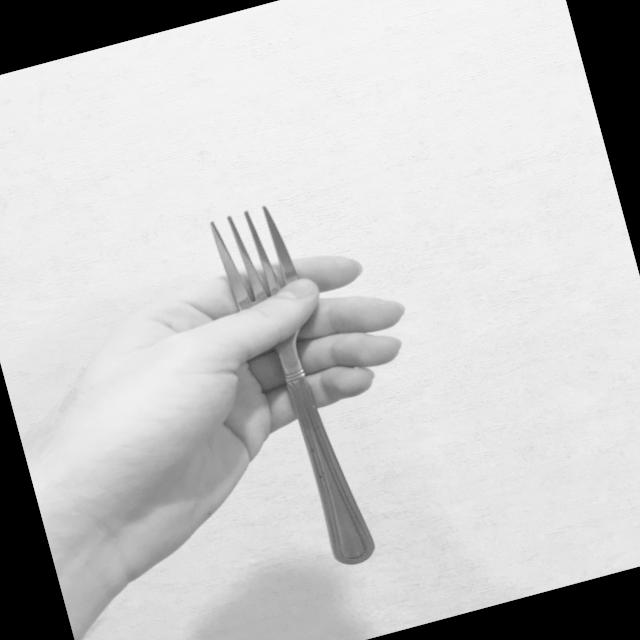fork: (201, 194, 382, 580)
